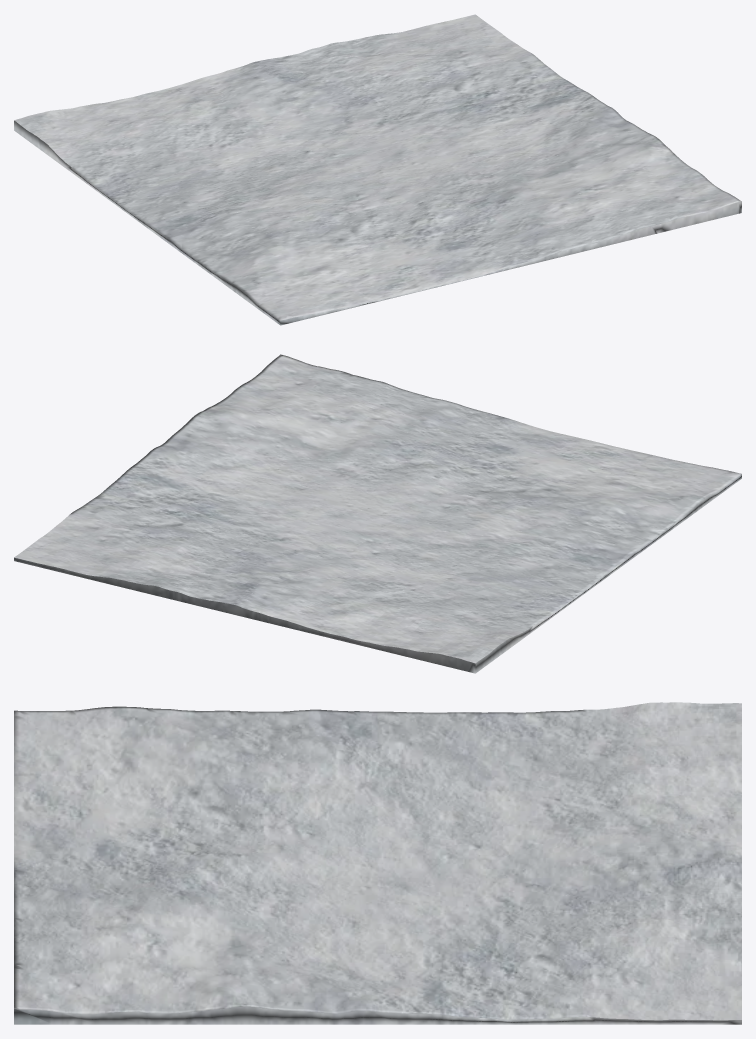
The model's file is snowonly-transformed.glb.
3 renders of one model, top to bottom at view 1: azimuth 30°, elevation 25°; view 2: azimuth 150°, elevation 25°; view 3: azimuth 270°, elevation 25°, orthographic. The views are drawn at different scales.
Visible parts, largest first — view 1: default; view 2: default; view 3: default.
Part boxes in pixels (x1=…): default: x1=14, y1=14, x2=741, y2=325; default: x1=14, y1=354, x2=741, y2=673; default: x1=14, y1=702, x2=741, y2=1024.
Size of the model in its own units: 20 by 0.6141 by 20.
Materials: 1 (1 with a texture image).
